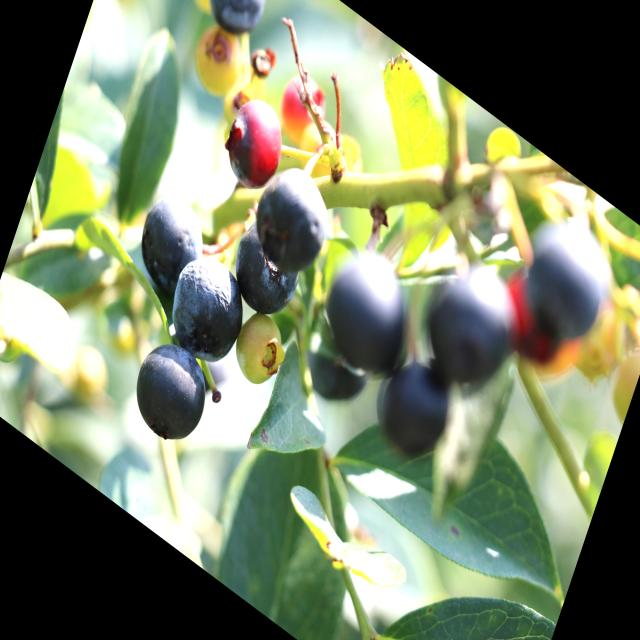blueberry: (315, 234, 424, 392), (421, 245, 519, 395), (518, 200, 616, 350), (162, 239, 254, 379), (124, 322, 217, 460), (249, 151, 337, 283), (130, 183, 212, 307), (376, 346, 456, 468), (300, 316, 377, 422), (201, 0, 275, 46)
blueberry-halfripe: (215, 87, 290, 206), (275, 64, 329, 150)
blueberry-unripe: (186, 6, 255, 112), (225, 302, 293, 400)
